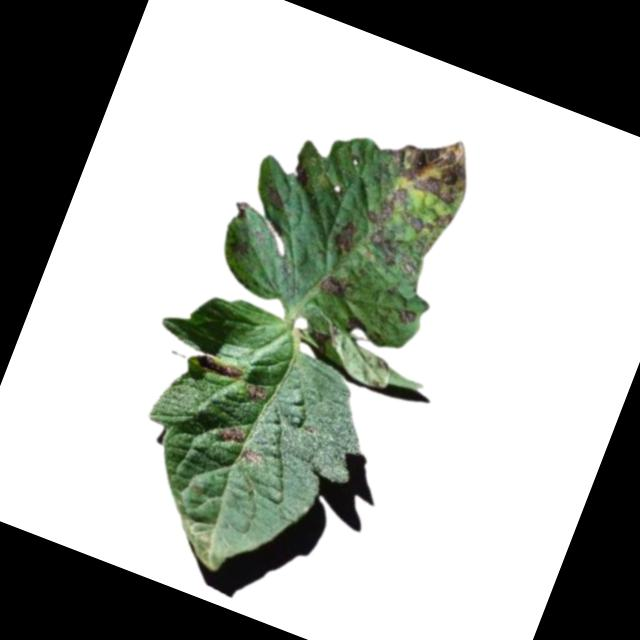Early_blight: (379, 120, 480, 209), (360, 177, 412, 234), (403, 198, 454, 242), (360, 228, 403, 270), (322, 218, 358, 262), (194, 352, 244, 383), (305, 318, 342, 357), (211, 415, 250, 449), (317, 268, 353, 303), (257, 181, 290, 214), (223, 229, 253, 258), (239, 378, 266, 406), (390, 304, 418, 328), (237, 445, 264, 469)
